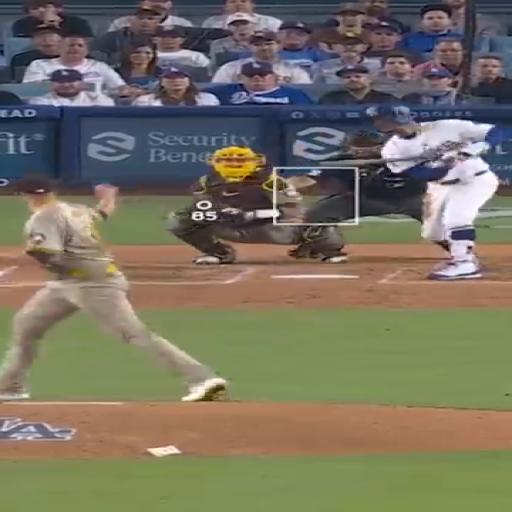bat: (320, 155, 428, 167)
